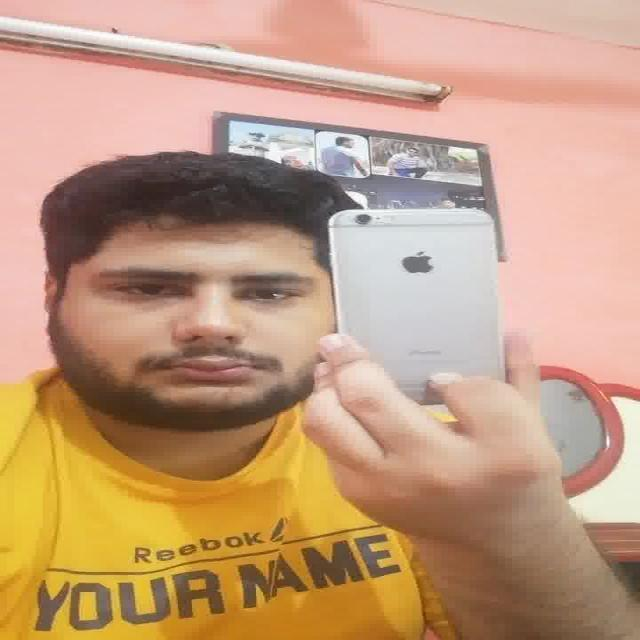Phone: (327, 207, 502, 396)
